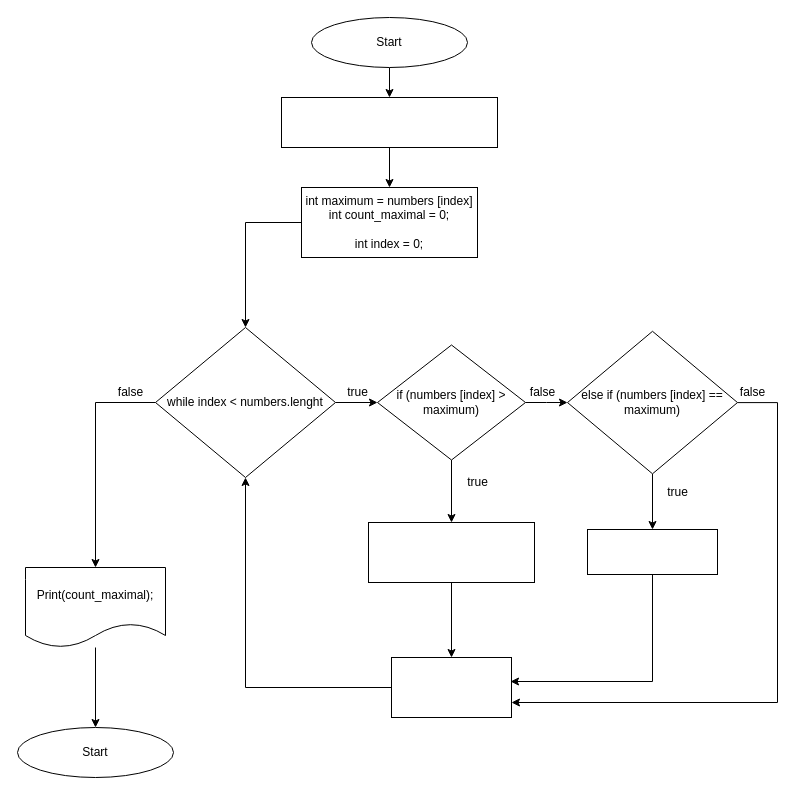
This 803x795 diagram has some shape labels left out. The shapes that lost their labels are listed below. From the top down, each one's centre as x and y in pixels, then its label:
At (x=389, y=122): "int [] numbers = {1, 8, 3, 8, 2, 6, 8, 8}".
At (x=451, y=552): "maximum = numbers [index]; count_maximal = 1;".
At (x=652, y=551): "count_maximal++;".
At (x=451, y=687): "index++;".
